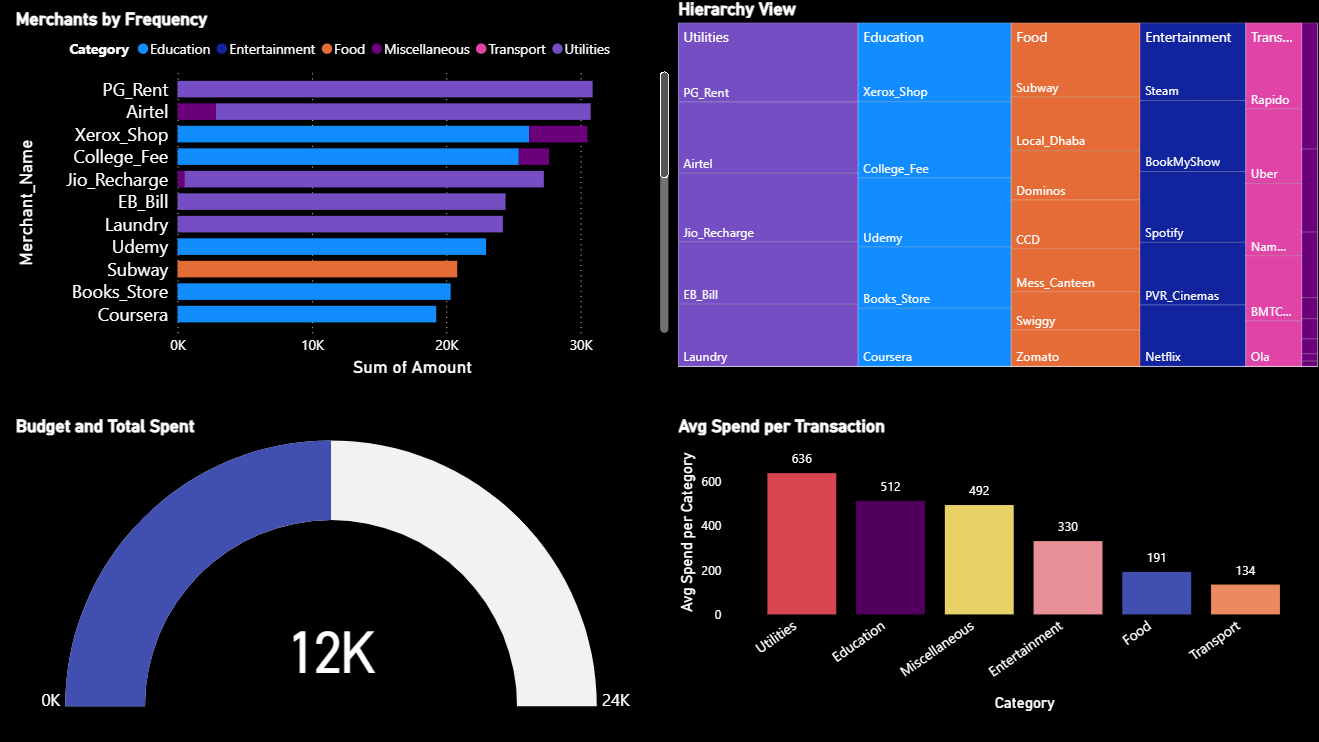

What the dashboard file says about the page in this screenshot:
{"tool":"powerbi","page":{"name":"Page 3","canvas":[1280,720],"ordinal":2},"visuals":[{"type":"barChart","title":"Merchants by Frequency","fields":{"Category":["cleaned_transactions.Merchant_Name"],"Y":["Sum(cleaned_transactions.Amount)"],"Series":["cleaned_transactions.Category"]},"box":[12.8,10,640,360.6],"z":0},{"type":"gauge","fields":{"Y":["cleaned_transactions.Budget"],"TargetValue":["cleaned_transactions.Total Spent"]},"box":[12.8,403.4,627.2,290.8],"z":1000},{"type":"treemap","title":"Hierarchy View","fields":{"Group":["cleaned_transactions.Category"],"Details":["cleaned_transactions.Merchant_Name"],"Values":["Sum(cleaned_transactions.Amount)"]},"box":[652.8,0,627.2,360.6],"z":1001},{"type":"clusteredColumnChart","title":"Avg Spend per Transaction","fields":{"Category":["cleaned_transactions.Category"],"Y":["cleaned_transactions.Avg Spend per Category"]},"box":[653,403,627,291],"z":1002}]}

Visuals, with their boxes in screenshot pixels (x1, y1, x2, y2), scaled from the page's 1280x720 canvas onto the 1319x742 screenshot:
"Merchants by Frequency" barChart: bbox=[13, 10, 673, 382]
gauge - cleaned_transactions.Budget x cleaned_transactions.Total Spent: bbox=[13, 416, 660, 715]
"Hierarchy View" treemap: bbox=[673, 0, 1318, 372]
"Avg Spend per Transaction" clusteredColumnChart: bbox=[673, 415, 1318, 715]
